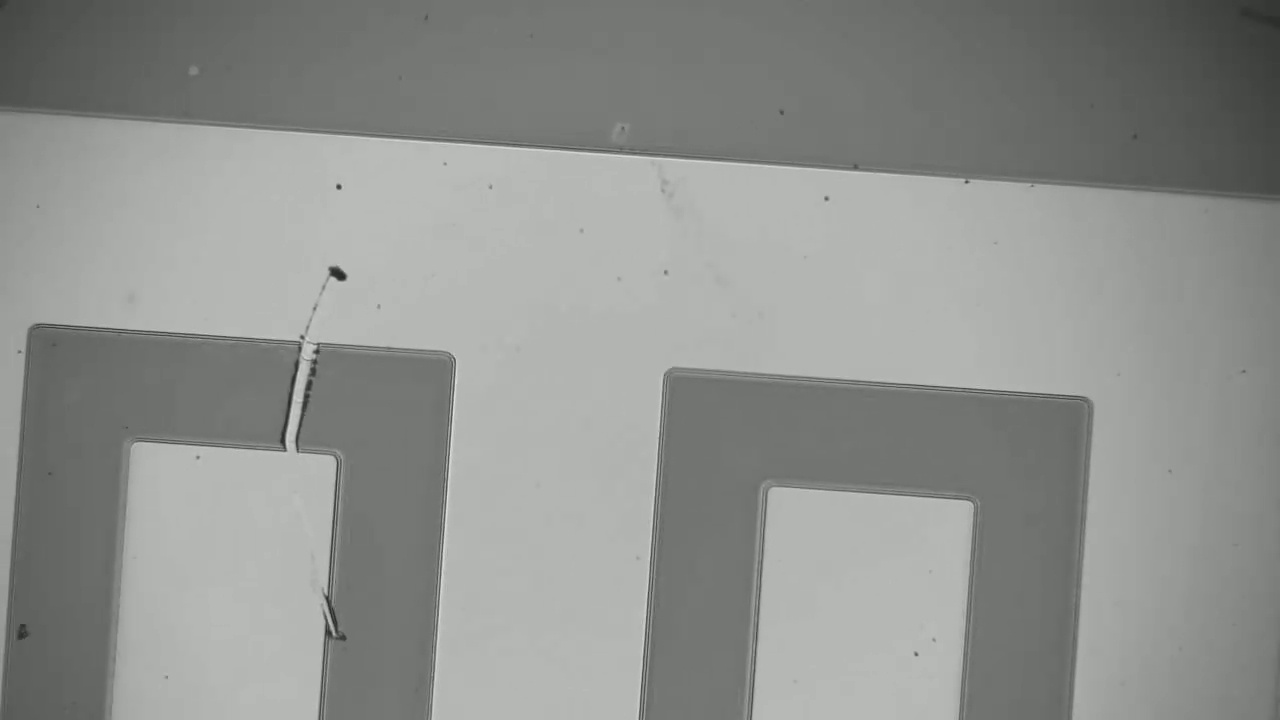Short_circuit: (251, 305, 336, 471)
